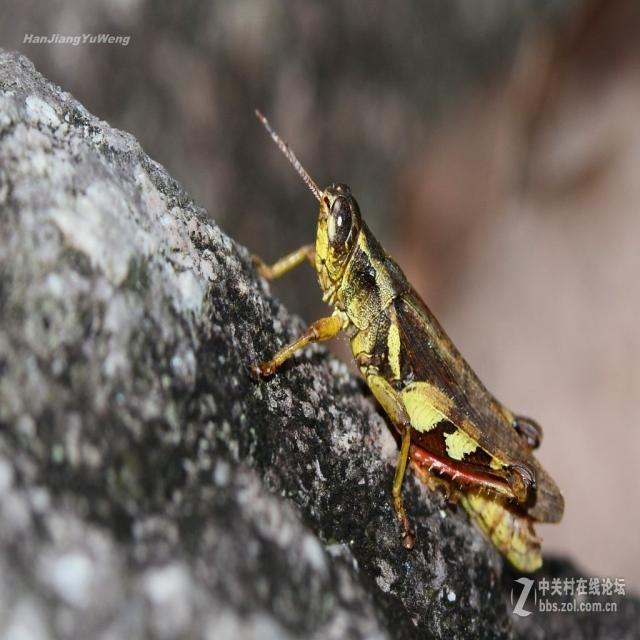ZhaMeng: (268, 156, 556, 564)
